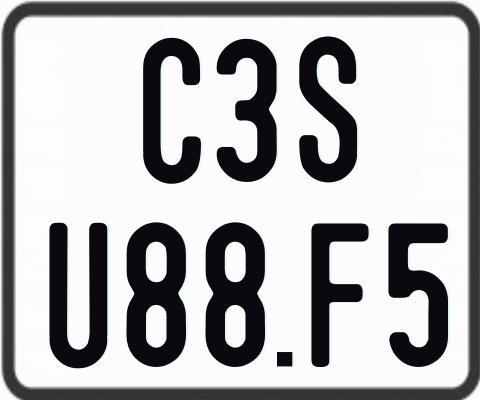3: (215, 39, 279, 186)
5: (388, 222, 451, 366)
8: (124, 219, 190, 368), (203, 221, 263, 370)
C: (141, 37, 199, 185)
F: (310, 221, 368, 365)
S: (298, 34, 362, 182)
U: (47, 221, 106, 367)
